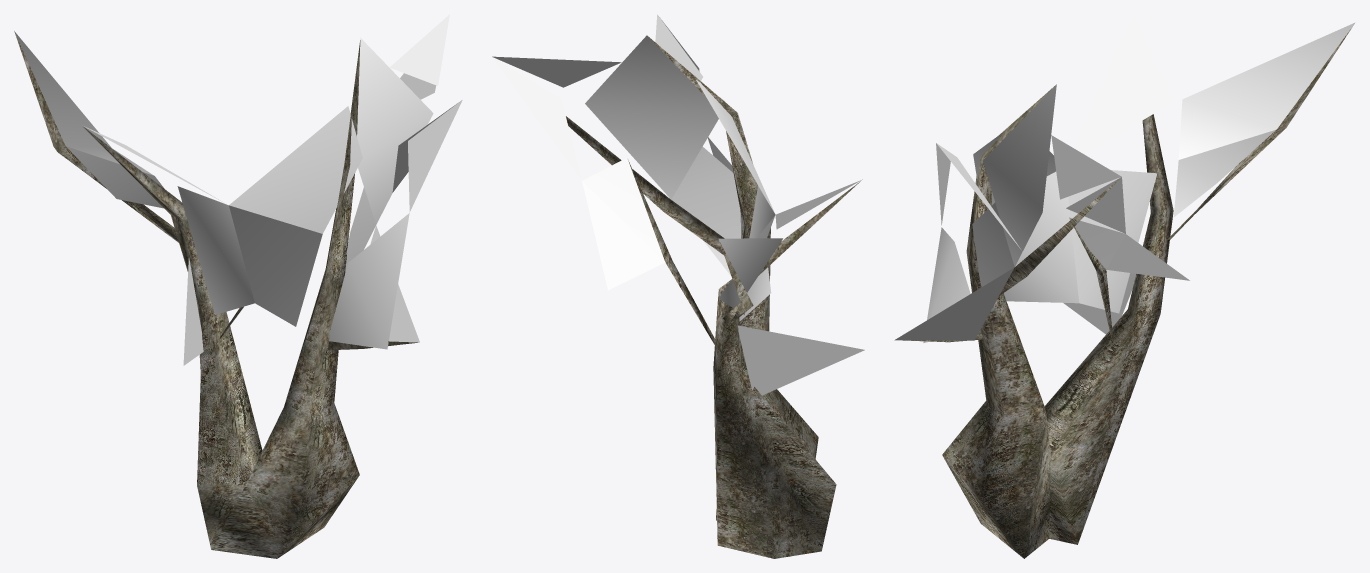
Rendered from poi_lair_web_base_l2.fbx.
3 views of the same model, side by side, from view 1: azimuth 30°, elevation 25°; view 2: azimuth 150°, elevation 25°; view 3: azimuth 270°, elevation 25° (orthographic). The views are drawn at different scales.
Visible parts, largest first — view 1: mesh_node; view 2: mesh_node; view 3: mesh_node.
Boxes of the visible parts, <box> form: mesh_node: <box>14,14,462,558</box>; mesh_node: <box>492,14,864,558</box>; mesh_node: <box>894,14,1355,558</box>.
Size of the model in its own units: 3.65 by 4.48 by 3.73.
